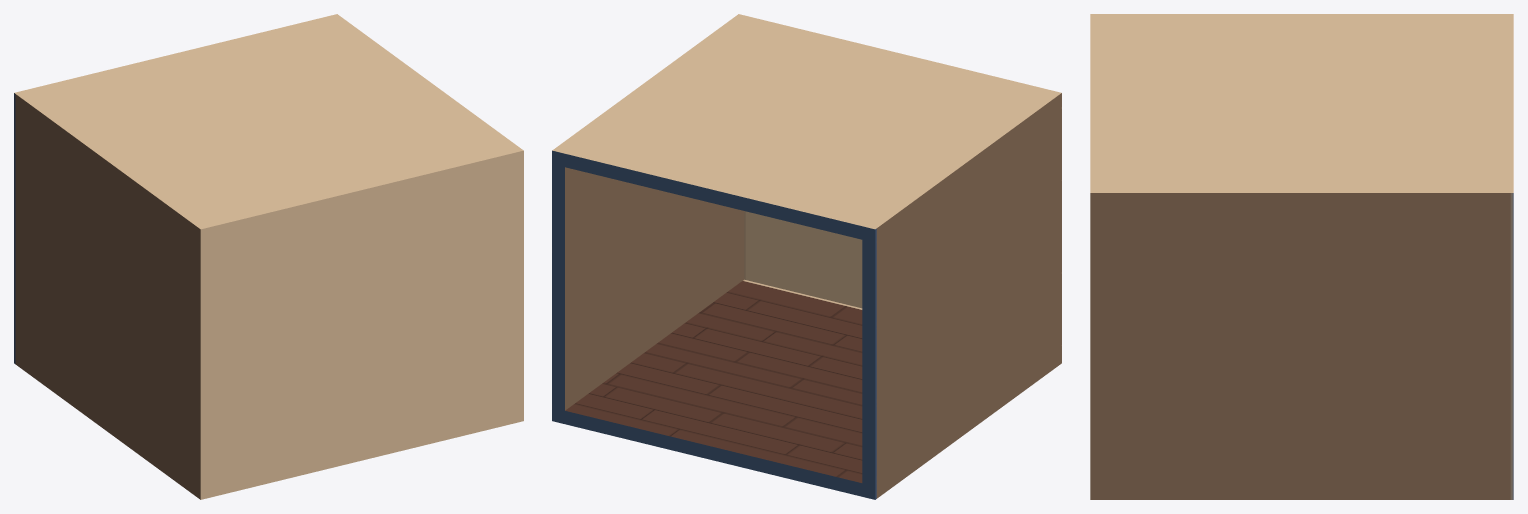
File: RoomSIngle_NOHALL.fbx
The picture shows the model from 3 angles, left to right: view 1: azimuth 30°, elevation 25°; view 2: azimuth 150°, elevation 25°; view 3: azimuth 270°, elevation 25°; orthographic projection. The views are drawn at different scales.
Visible parts, largest first — view 1: Room_NoHALL; view 2: Room_NoHALL; view 3: Room_NoHALL.
Part boxes in pixels (x1,y1,x2,y2): Room_NoHALL: (14, 14, 523, 499); Room_NoHALL: (552, 14, 1061, 499); Room_NoHALL: (1090, 14, 1513, 499).
Bounding box in the file's own units: 500 × 400 × 500.
